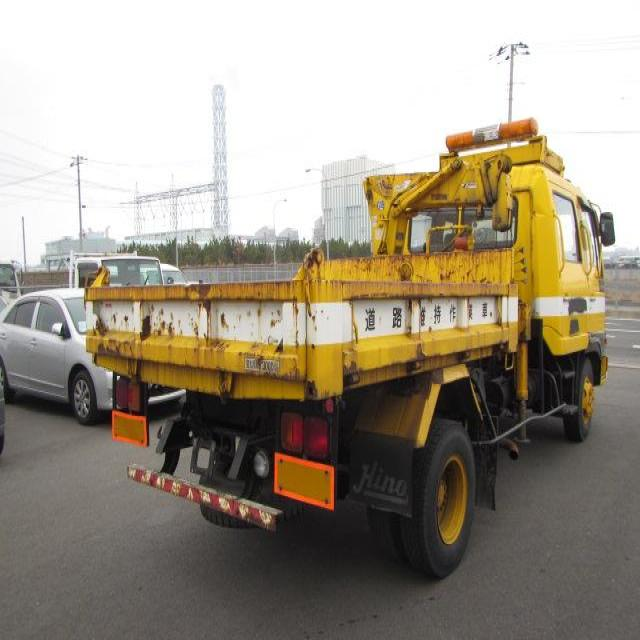dump_truck: (97, 96, 614, 575)
light_vehicle: (4, 279, 141, 437)
